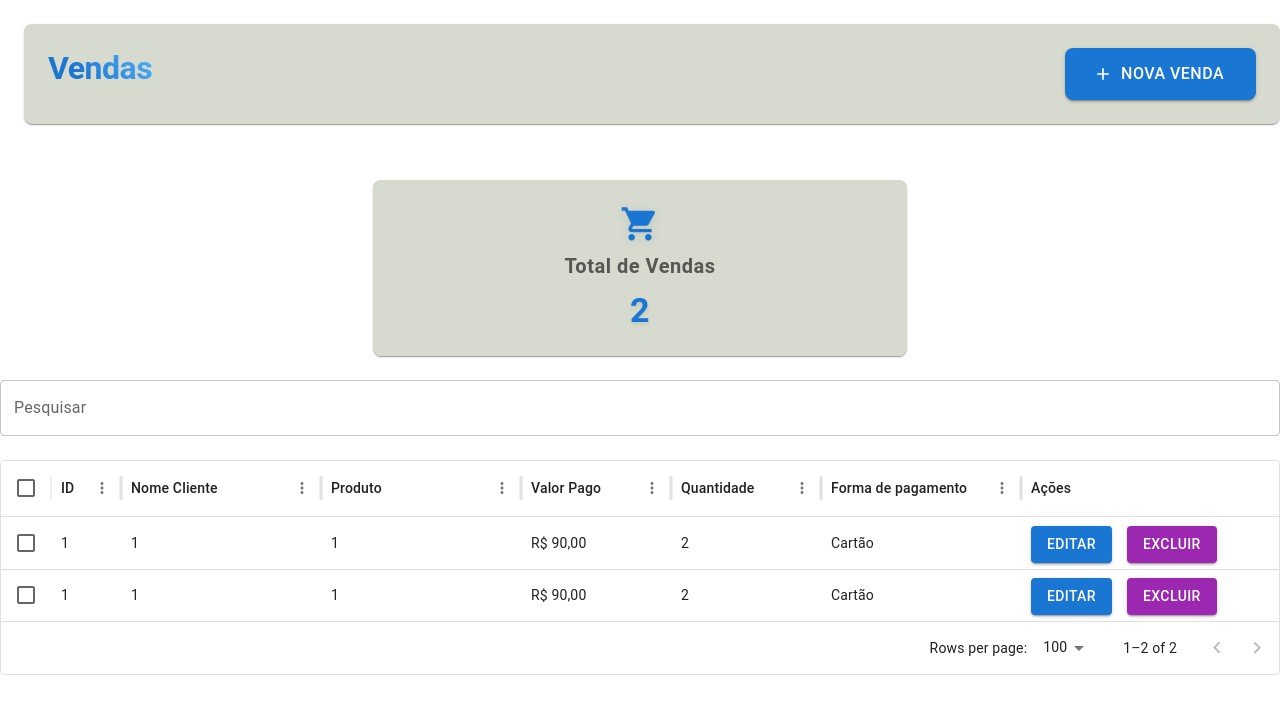
Scenario: Componente venda › Abre formulário para edição ao clicar em Editar
This screenshot has width=1280, height=720.
Expected: the table is shown, [1,461,1279,621]
Click the 1st button "Editar" at [1072, 544], box [1031,526,1112,562]
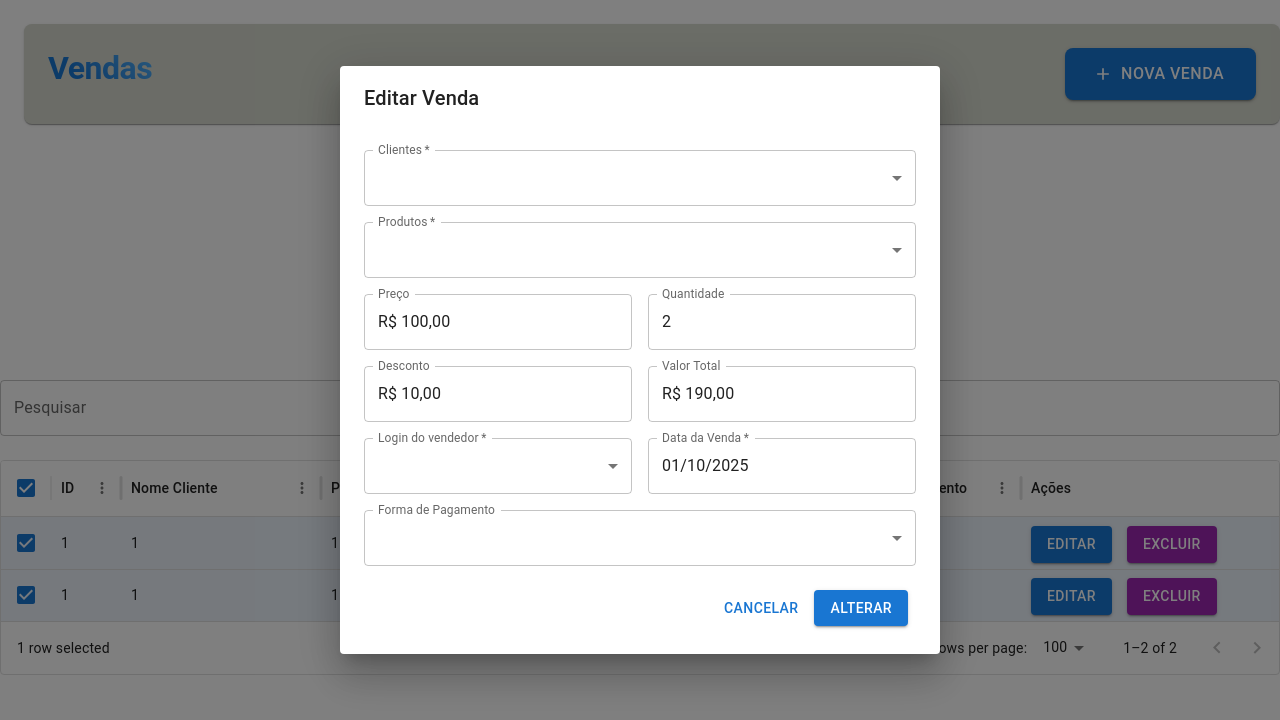
Expected: the dialog is shown, [340,66,940,654]
